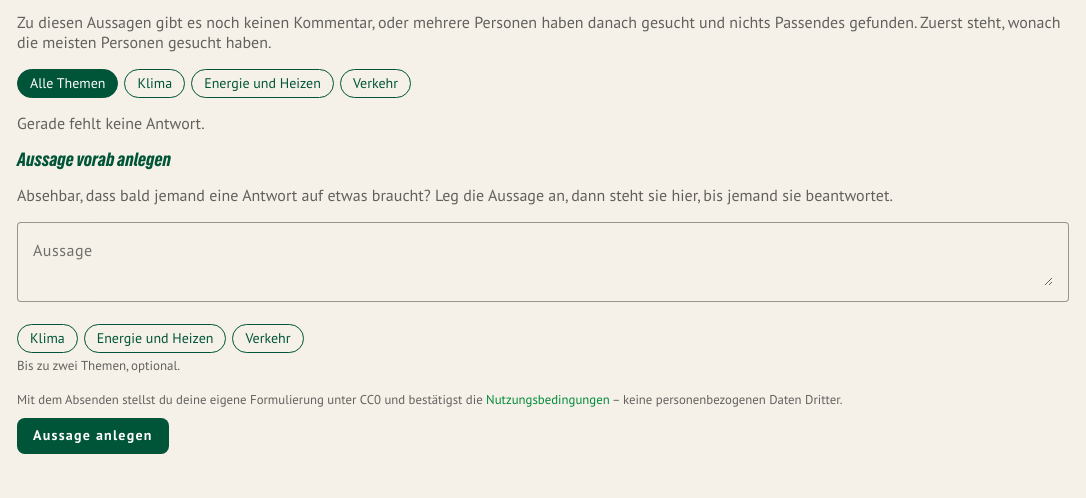
HierFehltEineAntwortComponent › Aussage vorab anlegen › nennt bei einer vorhandenen Aussage die Themen, die sie hat, ohne auf die Liste zu verweisen
The width and height of the screenshot is (1086, 498).
Type "Das Heizungsgesetz enteignet uns" into the text box named "aussage". click: (543, 262)
box: [33,238,1053,286]
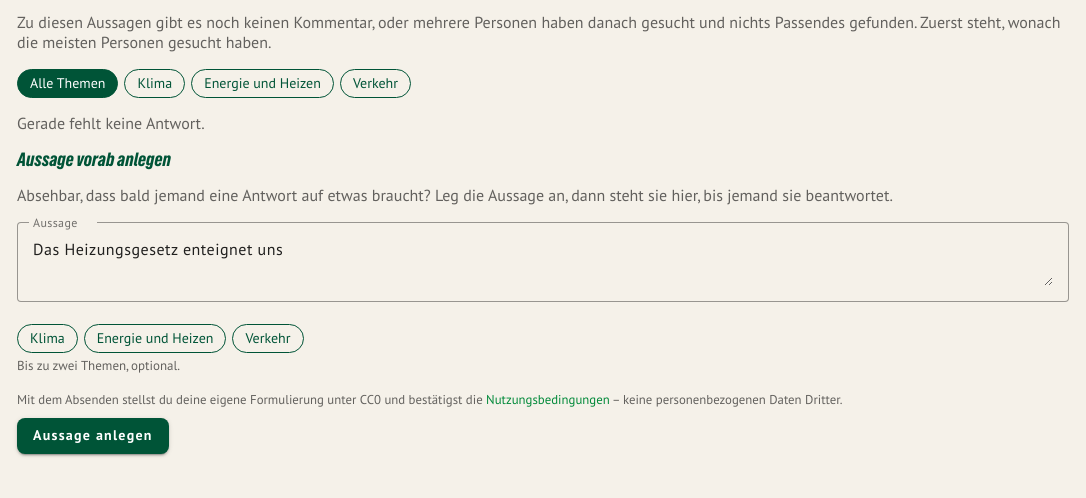
Click the button "Klima" below "Aussage vorab anlegen". click: (47, 338)
box: [17,324,78,353]
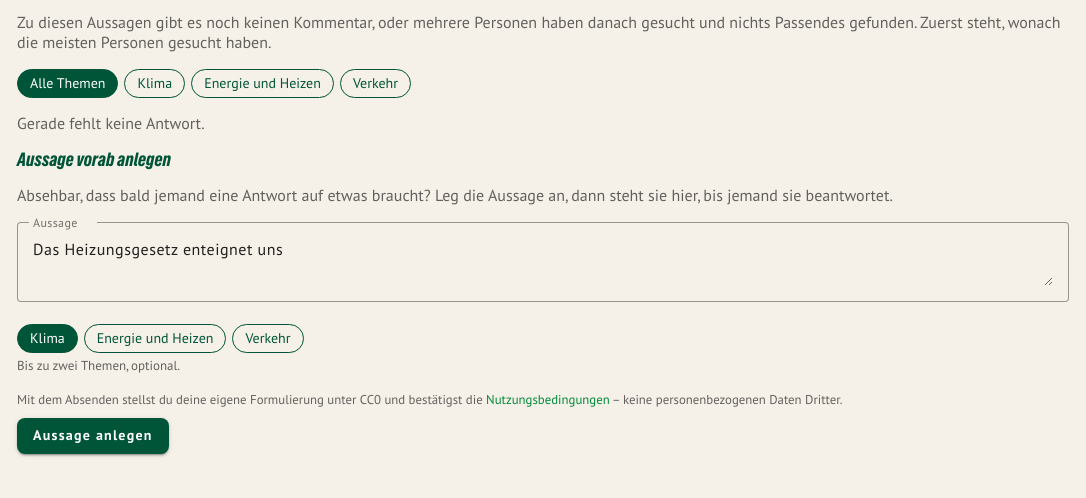
Click the button with class "aussage-anlegen". click: (93, 436)
box: [17,418,169,454]
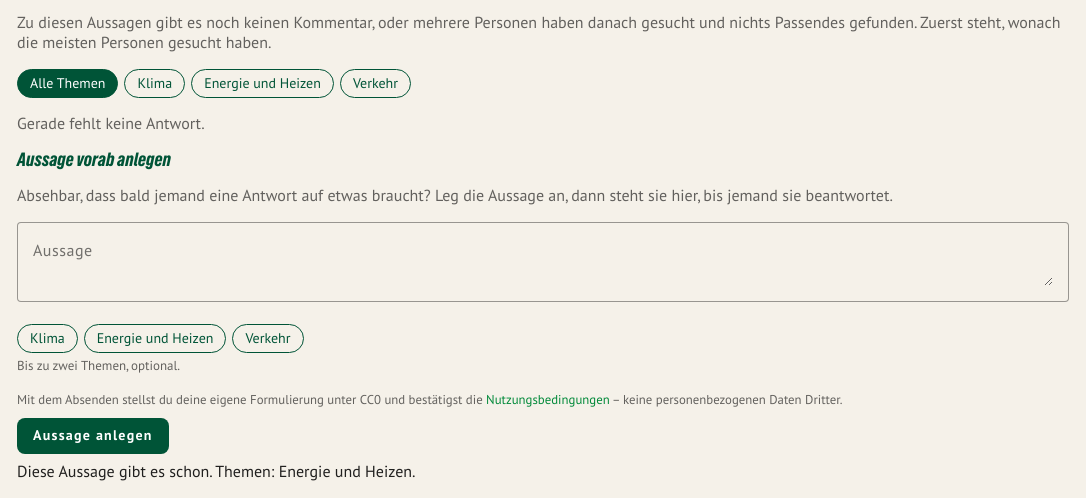
Now the text "Diese Aussage gibt es schon. Themen: Energie und Heizen." is shown, box [17,463,415,481]
